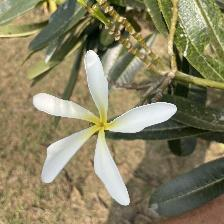champaka: (34, 48, 182, 208)
